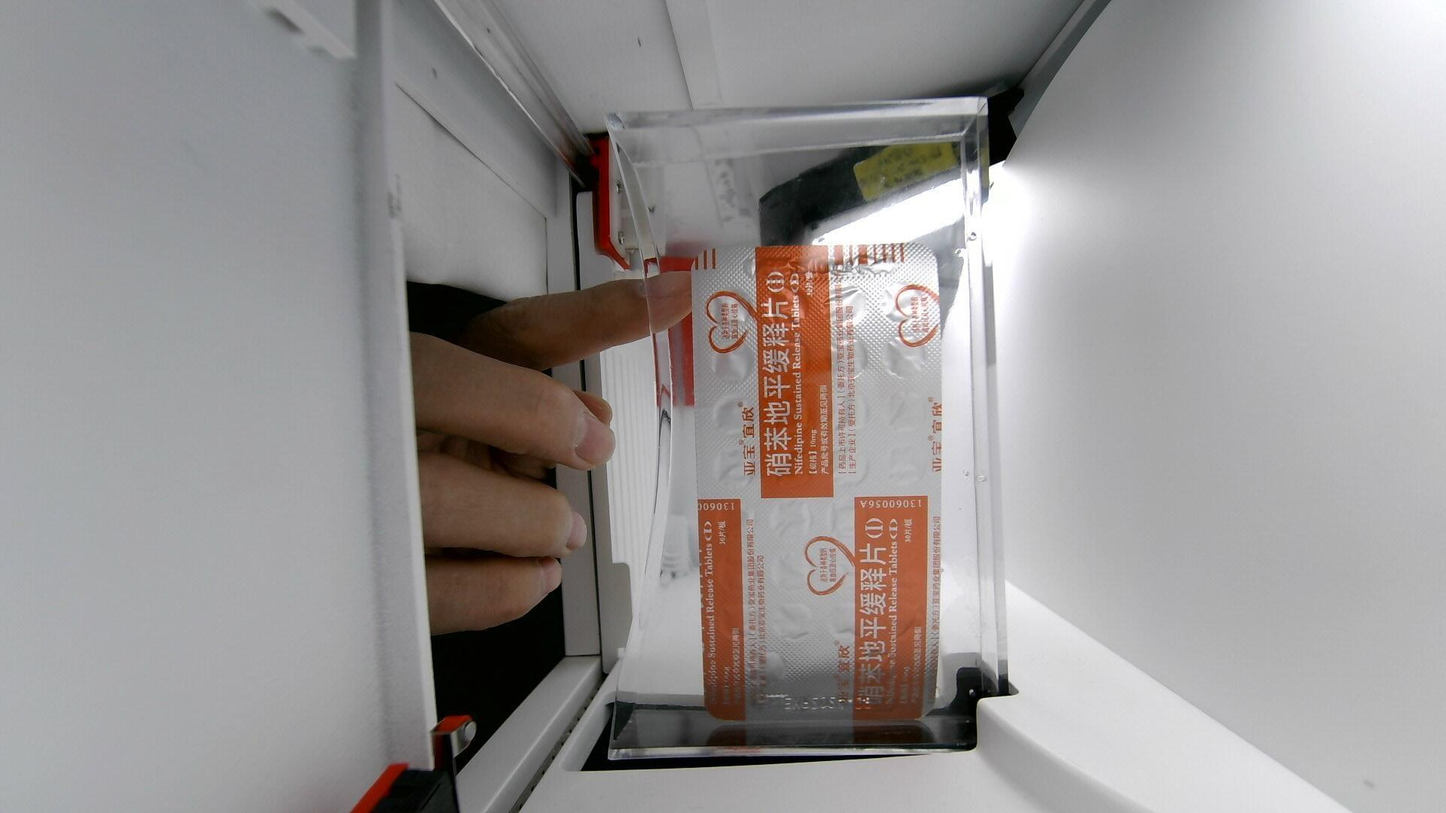Pill Back: (769, 598, 821, 644), (769, 547, 822, 592), (847, 645, 896, 693), (712, 340, 759, 387), (768, 279, 814, 327), (763, 438, 812, 483), (707, 598, 758, 641), (881, 334, 930, 378), (884, 493, 929, 538), (822, 388, 871, 429), (890, 599, 941, 638), (829, 336, 873, 381), (819, 283, 868, 323), (886, 391, 929, 435), (747, 648, 792, 690), (712, 502, 759, 542), (822, 443, 870, 482), (830, 601, 882, 637), (835, 550, 876, 595), (712, 449, 754, 491), (718, 550, 764, 588), (709, 287, 752, 327), (831, 496, 871, 539), (890, 550, 933, 590), (879, 279, 920, 320), (713, 398, 757, 436), (887, 446, 928, 486), (770, 501, 811, 541), (767, 391, 810, 428), (769, 340, 810, 375)
